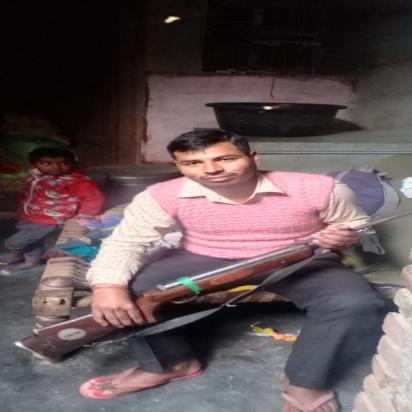Gun: (8, 210, 412, 366)
